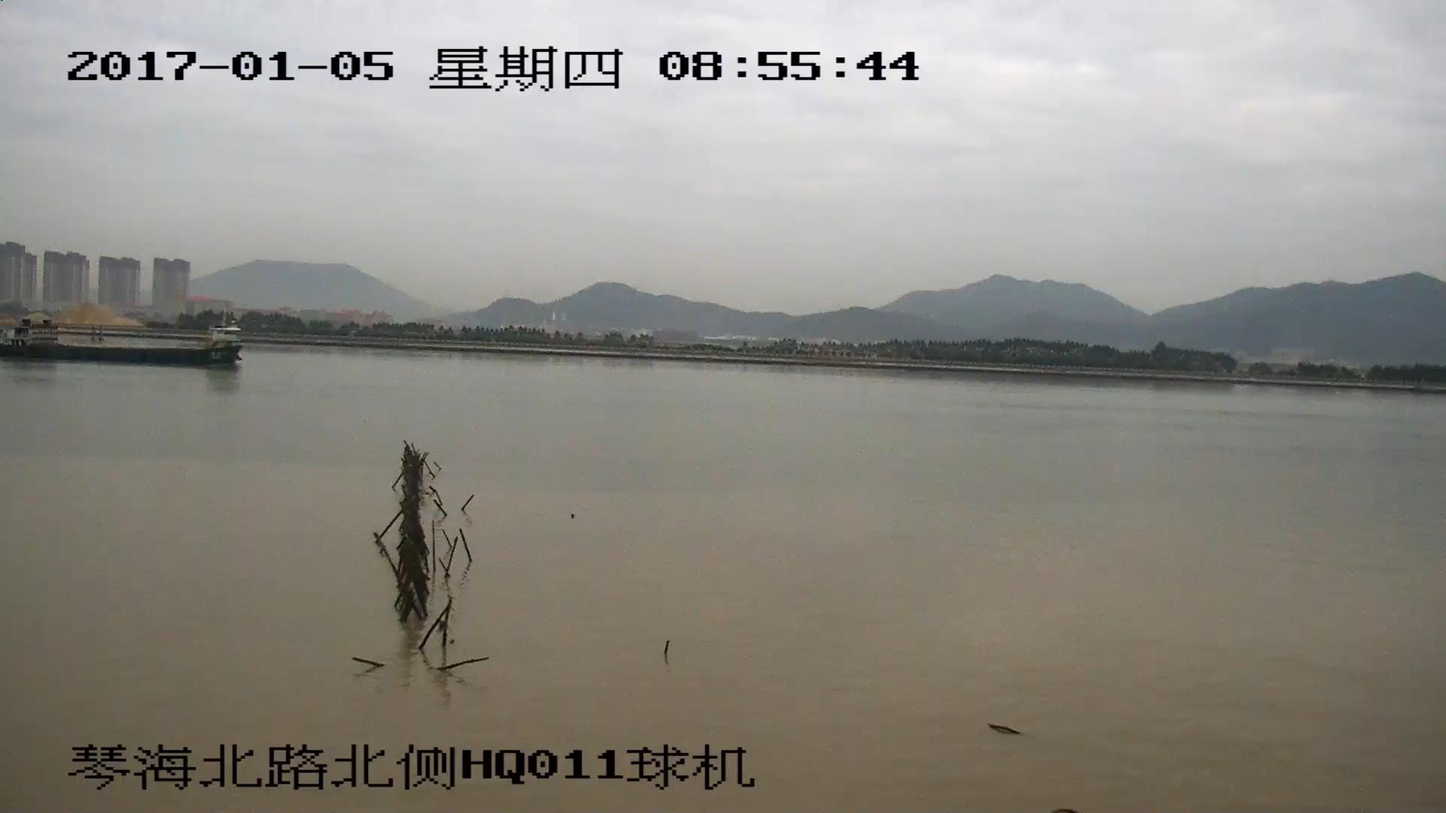general cargo ship: (0, 316, 241, 364)
